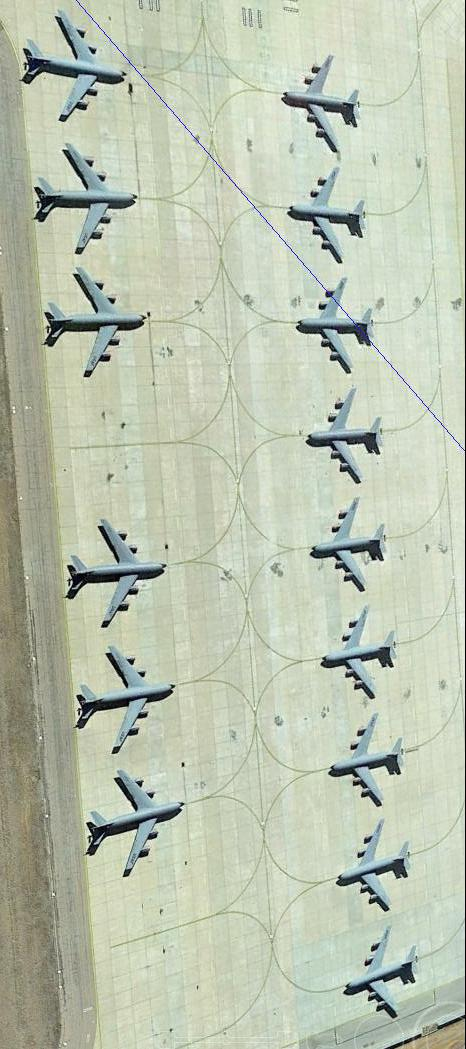KC-135: (80, 765, 184, 882), (40, 268, 146, 376), (31, 148, 139, 251), (72, 641, 173, 751), (67, 516, 165, 629), (21, 16, 126, 119), (278, 51, 363, 155), (287, 163, 367, 268), (303, 382, 383, 484), (295, 274, 375, 372), (323, 601, 399, 703), (326, 713, 405, 810), (340, 926, 420, 1019), (311, 497, 388, 592), (336, 815, 410, 912)
